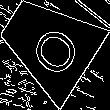O_NW: (17, 12, 79, 76)
